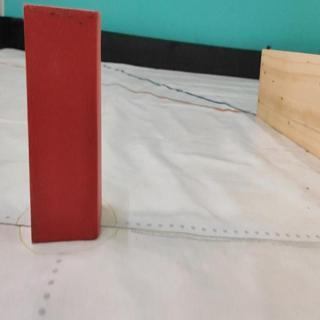redbox: (23, 3, 101, 245)
